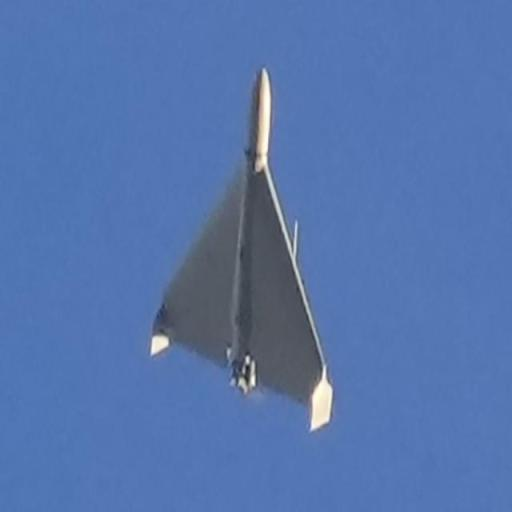uav: (137, 54, 362, 447)
